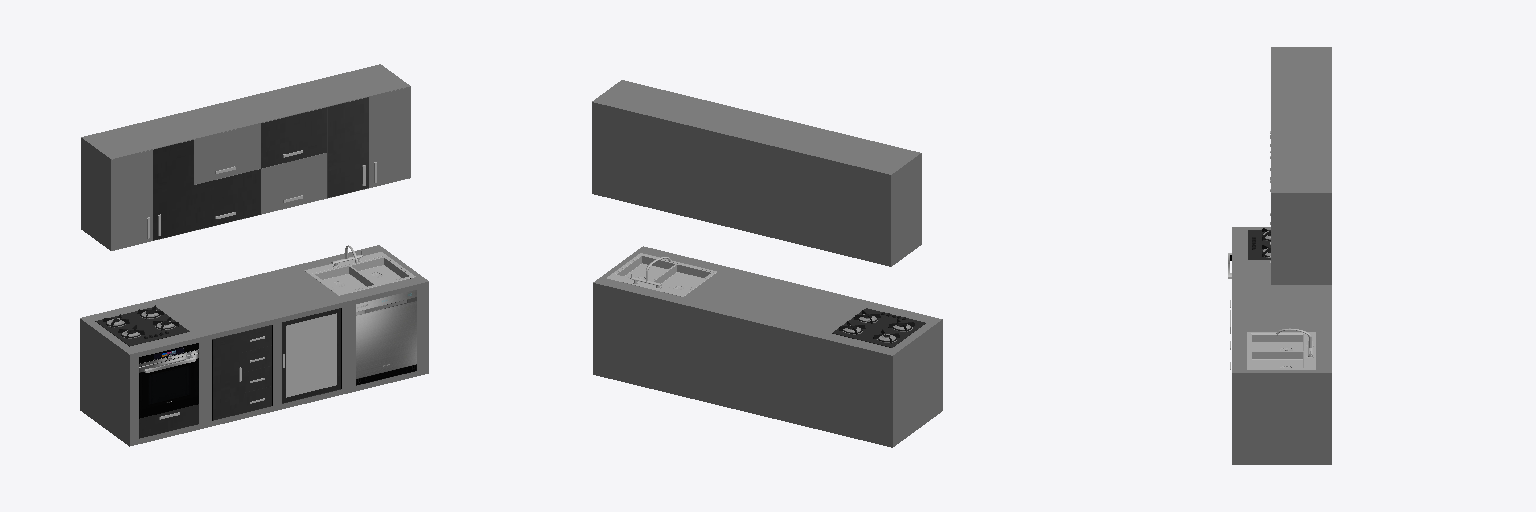
The picture shows the model from 3 angles: view 1: azimuth 30°, elevation 25°; view 2: azimuth 150°, elevation 25°; view 3: azimuth 270°, elevation 25°; orthographic projection.
Parts seen in each view (by area): view 1: Mesh54 Component_32_1 Component_35_1 Component_38_1 Component_41, Mesh1 Component_33_1 Component_36_1 Component_38_1 Component_41_, Mesh53 Component_30_1 Component_34_1 Component_36_1 Component_38, Mesh46 Component_24_1 Component_28_1 Component_34_1 Component_36, Mesh44 Component_29_1 Component_34_1 Component_36_1 Component_38, Mesh43 Component_22_1 Component_26_1 Component_34_1 Component_36, Mesh2 Group1 Cooktop_Fischer_1642_6985_1 FOG_O_COOK_TOP_4_BOCAS_; view 2: Mesh1 Component_33_1 Component_36_1 Component_38_1 Component_41_, Mesh54 Component_32_1 Component_35_1 Component_38_1 Component_41, Mesh43 Component_22_1 Component_26_1 Component_34_1 Component_36, Mesh2 Group1 Cooktop_Fischer_1642_6985_1 FOG_O_COOK_TOP_4_BOCAS_; view 3: Mesh1 Component_33_1 Component_36_1 Component_38_1 Component_41_, Mesh54 Component_32_1 Component_35_1 Component_38_1 Component_41, Mesh43 Component_22_1 Component_26_1 Component_34_1 Component_36.
Boxes of the visible parts, x1,y1,x2,y2 form: Mesh54 Component_32_1 Component_35_1 Component_38_1 Component_41: [81, 64, 410, 250]; Mesh1 Component_33_1 Component_36_1 Component_38_1 Component_41_: [80, 245, 428, 446]; Mesh53 Component_30_1 Component_34_1 Component_36_1 Component_38: [356, 290, 416, 385]; Mesh46 Component_24_1 Component_28_1 Component_34_1 Component_36: [282, 308, 340, 402]; Mesh44 Component_29_1 Component_34_1 Component_36_1 Component_38: [139, 343, 198, 418]; Mesh43 Component_22_1 Component_26_1 Component_34_1 Component_36: [304, 252, 415, 295]; Mesh2 Group1 Cooktop_Fischer_1642_6985_1 FOG_O_COOK_TOP_4_BOCAS_: [95, 307, 189, 346]; Mesh1 Component_33_1 Component_36_1 Component_38_1 Component_41_: [593, 246, 942, 447]; Mesh54 Component_32_1 Component_35_1 Component_38_1 Component_41: [592, 80, 921, 266]; Mesh43 Component_22_1 Component_26_1 Component_34_1 Component_36: [607, 253, 716, 296]; Mesh2 Group1 Cooktop_Fischer_1642_6985_1 FOG_O_COOK_TOP_4_BOCAS_: [832, 308, 925, 347]; Mesh1 Component_33_1 Component_36_1 Component_38_1 Component_41_: [1232, 227, 1331, 464]; Mesh54 Component_32_1 Component_35_1 Component_38_1 Component_41: [1271, 47, 1331, 284]; Mesh43 Component_22_1 Component_26_1 Component_34_1 Component_36: [1247, 332, 1315, 369].
Bounding box in the file's own units: 4.52 × 3.91 × 1.34.
17 materials, 5 textured.